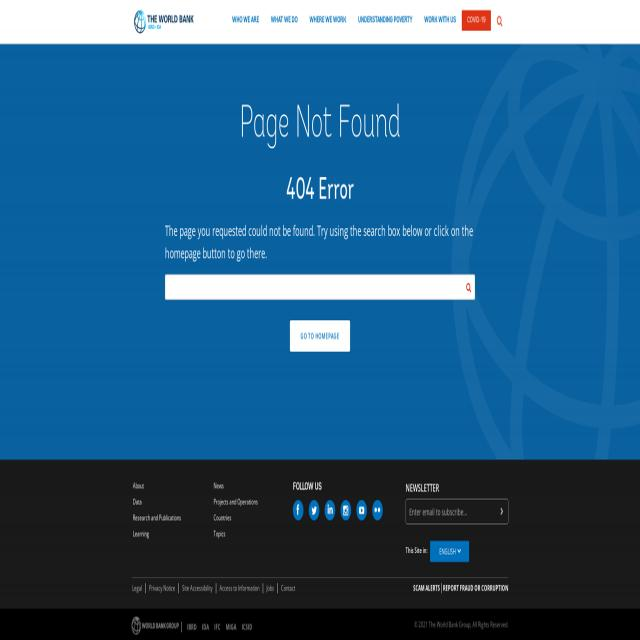button: (290, 321, 350, 352), (134, 11, 194, 34), (430, 541, 469, 562), (462, 10, 491, 31), (462, 274, 476, 300), (496, 499, 508, 524), (340, 500, 351, 520), (356, 500, 367, 520), (293, 500, 303, 520), (309, 500, 319, 520), (325, 500, 335, 520), (372, 500, 382, 520), (497, 15, 503, 27)
field: (165, 274, 475, 300), (406, 499, 508, 524)
